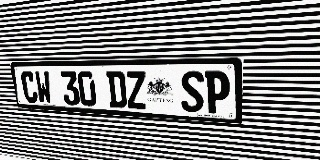0: (77, 71, 97, 107)
3: (60, 71, 80, 106)
C: (20, 71, 38, 103)
D: (106, 71, 127, 108)
P: (205, 71, 230, 114)
S: (180, 71, 204, 113)
W: (34, 71, 53, 104)
Z: (125, 71, 147, 109)
